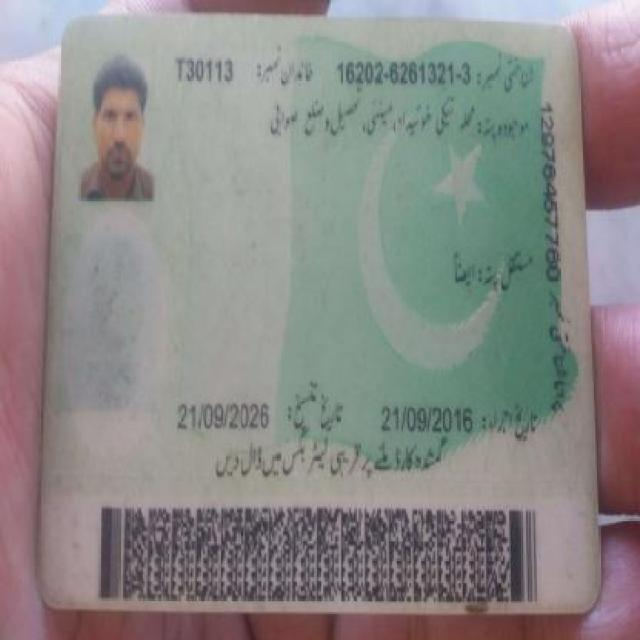Back: (34, 9, 609, 626)
